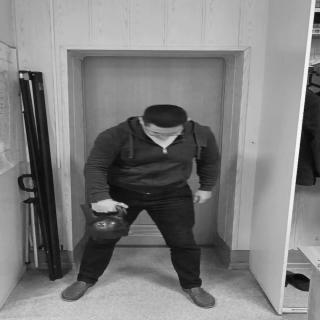kettlebell: (84, 202, 132, 240)
